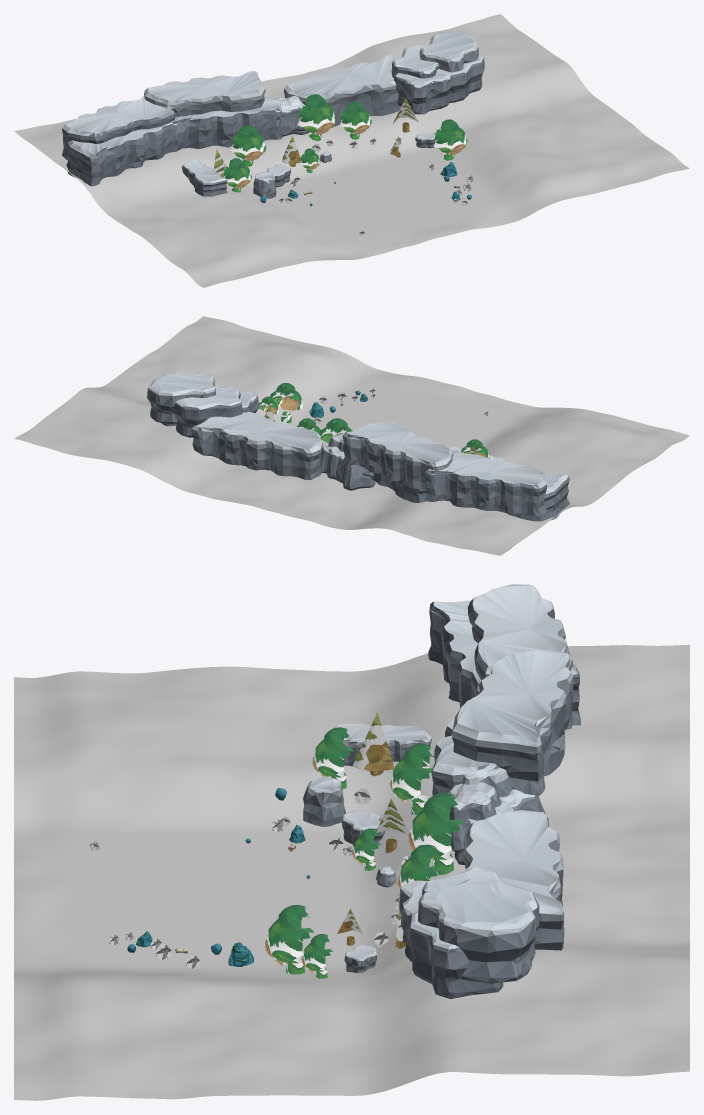
File: arctic_arena.glb
The picture shows the model from 3 angles, top to bottom: view 1: azimuth 30°, elevation 25°; view 2: azimuth 150°, elevation 25°; view 3: azimuth 270°, elevation 25°; orthographic projection. The views are drawn at different scales.
Parts seen in each view (by area): view 1: G_arctic_Ground, P_arctic_00_mesa_wide, P_arctic_03_mesa_a, P_arctic_02_ridge, P_arctic_04_tree_c, P_arctic_13_ridge, P_arctic_06_tree_a, P_arctic_36_tree_a, P_arctic_01_mesa_b, P_arctic_05_tree_a, P_arctic_20_tree_a, P_arctic_15_butte; view 2: G_arctic_Ground, P_arctic_00_mesa_wide, P_arctic_02_ridge, P_arctic_03_mesa_a, P_arctic_01_mesa_b, P_arctic_36_tree_a, P_arctic_04_tree_c; view 3: G_arctic_Ground, P_arctic_00_mesa_wide, P_arctic_03_mesa_a, P_arctic_02_ridge, P_arctic_01_mesa_b, P_arctic_04_tree_c, P_arctic_36_tree_a, P_arctic_06_tree_a, P_arctic_13_ridge, P_arctic_15_butte, P_arctic_20_tree_a, P_arctic_08_tree_d (+4 smaller).
Part boxes in pixels (bbox=[...]): G_arctic_Ground: bbox=[14, 14, 689, 287]; P_arctic_00_mesa_wide: bbox=[62, 71, 282, 186]; P_arctic_03_mesa_a: bbox=[391, 32, 484, 114]; P_arctic_02_ridge: bbox=[284, 55, 401, 127]; P_arctic_04_tree_c: bbox=[297, 94, 335, 140]; P_arctic_13_ridge: bbox=[181, 159, 227, 196]; P_arctic_06_tree_a: bbox=[231, 125, 266, 166]; P_arctic_36_tree_a: bbox=[433, 119, 467, 160]; P_arctic_01_mesa_b: bbox=[264, 96, 309, 136]; P_arctic_05_tree_a: bbox=[339, 101, 371, 139]; P_arctic_20_tree_a: bbox=[223, 158, 251, 192]; P_arctic_15_butte: bbox=[253, 171, 276, 198]; G_arctic_Ground: bbox=[14, 316, 689, 555]; P_arctic_00_mesa_wide: bbox=[342, 421, 569, 521]; P_arctic_02_ridge: bbox=[191, 412, 322, 479]; P_arctic_03_mesa_a: bbox=[147, 372, 259, 437]; P_arctic_01_mesa_b: bbox=[320, 433, 375, 490]; P_arctic_36_tree_a: bbox=[270, 383, 303, 423]; P_arctic_04_tree_c: bbox=[319, 418, 352, 443]; G_arctic_Ground: bbox=[14, 644, 689, 1100]; P_arctic_00_mesa_wide: bbox=[428, 584, 580, 795]; P_arctic_03_mesa_a: bbox=[399, 867, 539, 998]; P_arctic_02_ridge: bbox=[462, 810, 564, 950]; P_arctic_01_mesa_b: bbox=[448, 768, 548, 864]; P_arctic_04_tree_c: bbox=[408, 793, 464, 874]; P_arctic_36_tree_a: bbox=[265, 905, 313, 974]; P_arctic_06_tree_a: bbox=[389, 744, 434, 814]; P_arctic_13_ridge: bbox=[334, 723, 431, 766]; P_arctic_15_butte: bbox=[303, 776, 345, 826]; P_arctic_20_tree_a: bbox=[312, 727, 353, 789]; P_arctic_08_tree_d: bbox=[352, 712, 394, 776].
Size of the model in its own units: 92.08 by 13.07 by 62.
